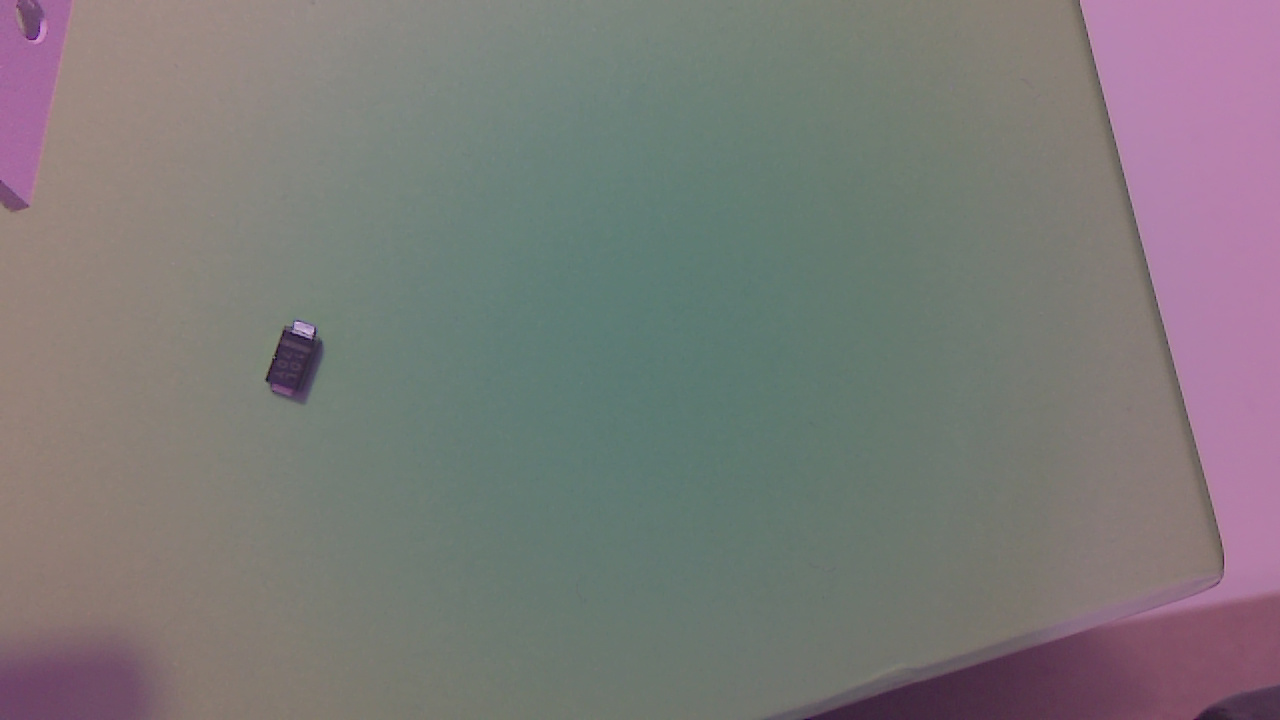Diode: (265, 324, 332, 404)
